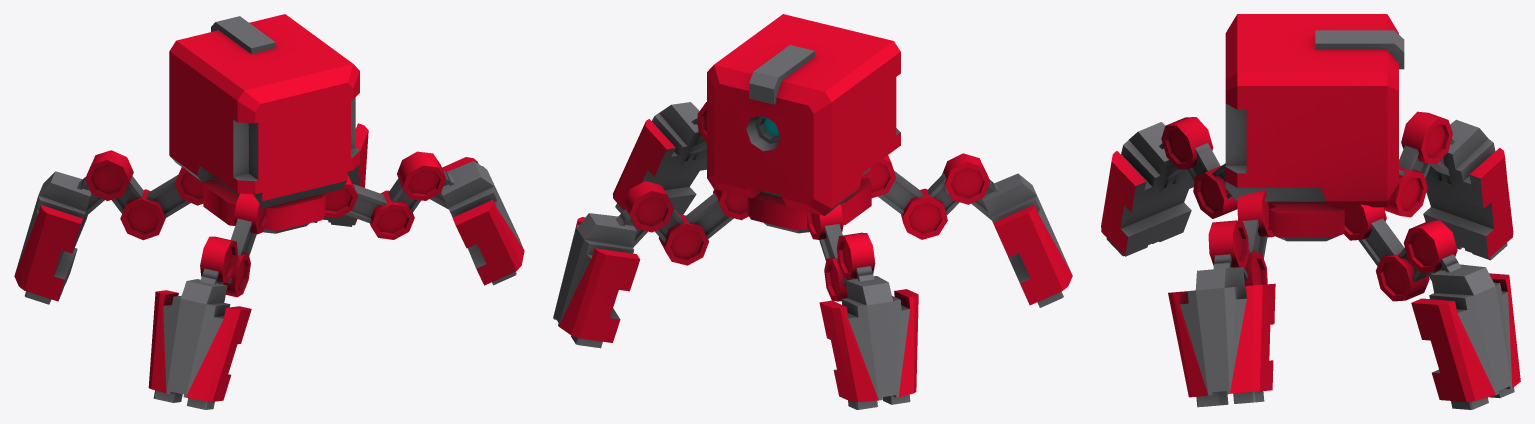
The model's file is Monster1_Move27.obj.
3 views of the same model, side by side, from view 1: azimuth 30°, elevation 25°; view 2: azimuth 150°, elevation 25°; view 3: azimuth 270°, elevation 25° (orthographic). The views are drawn at different scales.
Parts seen in each view (by area): view 1: Box006, Object021, Object025, Object017, Object028, Object020, Object027, Object019, Object018, Object026, Object024, Object022 (+2 smaller); view 2: Box006, Object025, Object013, Object021, Object017, Object016, Object023, Object024, Object015, Object014, Object022, Object028 (+3 smaller); view 3: Box006, Object017, Object013, Object025, Object021, Object016, Object014, Object028, Object023, Object024, Object027, Object015 (+3 smaller).
Part boxes in pixels (x1=…): Box006: x1=169, y1=14, x2=359, y2=233; Object021: x1=148, y1=279, x2=251, y2=409; Object025: x1=14, y1=171, x2=91, y2=304; Object017: x1=441, y1=157, x2=524, y2=285; Object028: x1=77, y1=150, x2=133, y2=216; Object020: x1=397, y1=151, x2=454, y2=209; Object027: x1=111, y1=176, x2=165, y2=240; Object019: x1=370, y1=178, x2=420, y2=239; Object018: x1=320, y1=175, x2=387, y2=223; Object026: x1=146, y1=167, x2=215, y2=218; Object024: x1=200, y1=236, x2=237, y2=284; Object022: x1=230, y1=193, x2=266, y2=255; Box006: x1=707, y1=14, x2=900, y2=233; Object025: x1=819, y1=276, x2=918, y2=409; Object013: x1=553, y1=213, x2=640, y2=348; Object021: x1=982, y1=173, x2=1072, y2=307; Object017: x1=613, y1=102, x2=706, y2=214; Object016: x1=616, y1=181, x2=673, y2=247; Object023: x1=901, y1=173, x2=959, y2=239; Object024: x1=942, y1=153, x2=999, y2=220; Object015: x1=655, y1=209, x2=709, y2=265; Object014: x1=685, y1=189, x2=748, y2=238; Object022: x1=861, y1=155, x2=923, y2=214; Object028: x1=836, y1=232, x2=875, y2=281; Box006: x1=1225, y1=14, x2=1404, y2=241; Object017: x1=1168, y1=267, x2=1275, y2=407; Object013: x1=1411, y1=264, x2=1520, y2=409; Object025: x1=1423, y1=119, x2=1513, y2=260; Object021: x1=1101, y1=122, x2=1194, y2=256; Object016: x1=1403, y1=220, x2=1461, y2=280; Object014: x1=1341, y1=204, x2=1404, y2=265; Object028: x1=1401, y1=111, x2=1455, y2=175; Object023: x1=1187, y1=143, x2=1237, y2=218; Object024: x1=1159, y1=117, x2=1213, y2=179; Object027: x1=1384, y1=145, x2=1431, y2=217; Object015: x1=1376, y1=247, x2=1429, y2=301.
Size of the model in its own units: 175 by 110 by 143.
